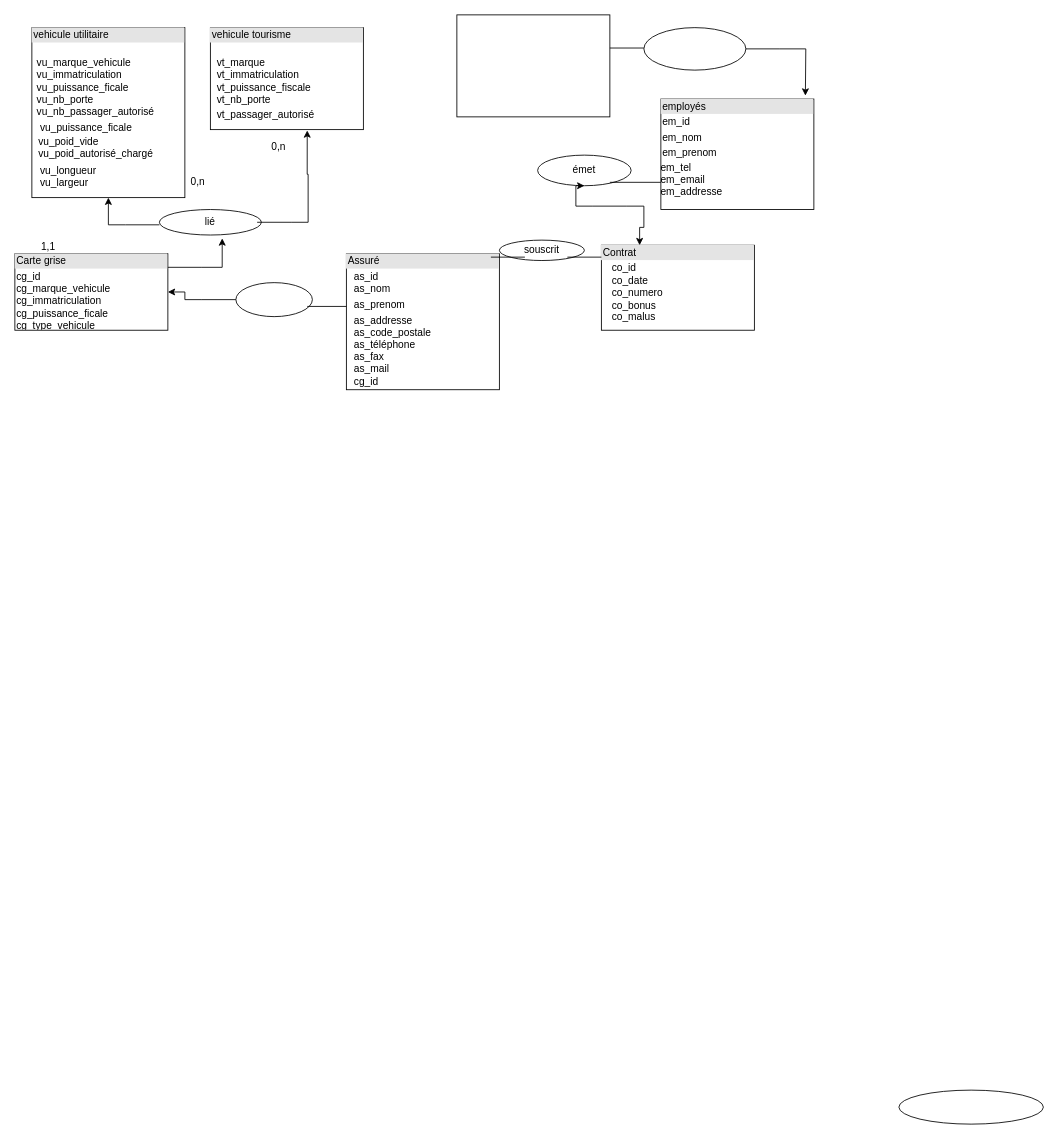
The diagram is 1058 pixels wide and 1139 high, and some of its shapes have lost their labels. Here are the shapes that lost their labels. From the top down, the centre of each, then its label:
At (533,65): "Agence ag_id ag_addresse ag_tel ag_email ag_fax ag_nbemploye".
At (694,48): "travail".
At (273,299): "possède".
At (970,1106): "Use Case".
